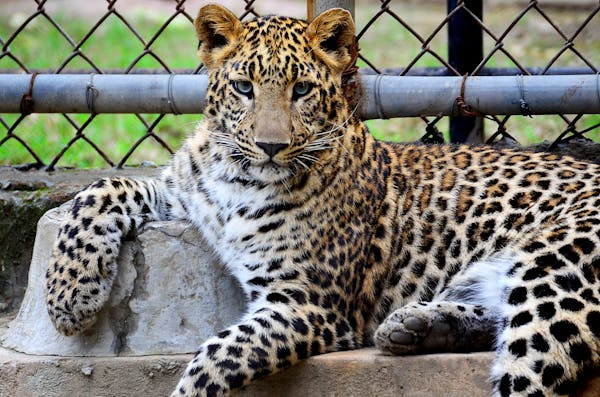Leopard: (46, 3, 600, 397)
